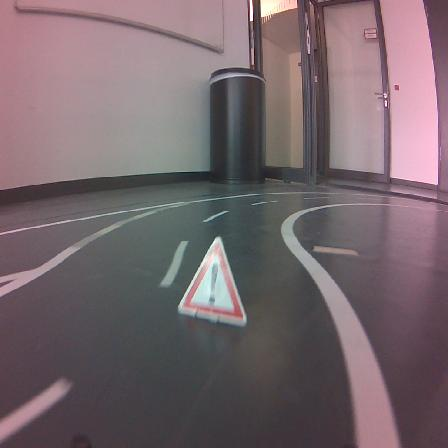ATTENTION: (178, 237, 246, 325)
